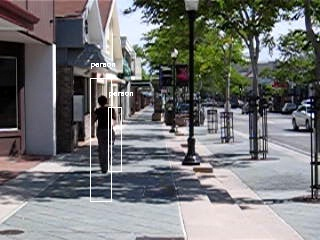person: (92, 95, 117, 173), (91, 95, 116, 173), (93, 95, 118, 173), (92, 94, 117, 172), (92, 96, 117, 174)
target_negative: (1, 121, 291, 205), (57, 36, 167, 230), (50, 33, 232, 124), (122, 163, 167, 195), (126, 224, 275, 226), (41, 136, 53, 160)
